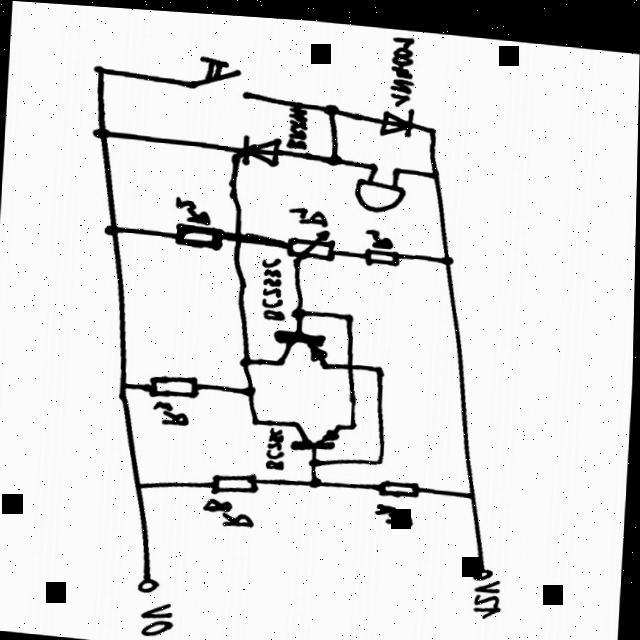crossover: (231, 226, 246, 242), (344, 355, 357, 367)
diode: (378, 100, 414, 133)
junction: (101, 221, 121, 235), (90, 125, 110, 138), (290, 301, 307, 316), (325, 148, 342, 162), (306, 451, 323, 465), (321, 98, 339, 111), (242, 380, 257, 394), (238, 352, 254, 365), (308, 472, 325, 484), (373, 358, 389, 370), (90, 62, 105, 74), (439, 249, 455, 260), (343, 307, 356, 318), (428, 164, 442, 174), (467, 483, 479, 494), (133, 478, 145, 489), (250, 413, 262, 423), (118, 378, 130, 388), (390, 160, 402, 169), (368, 157, 380, 166), (425, 120, 438, 128), (374, 452, 385, 461), (348, 417, 359, 426)
resistor: (284, 221, 338, 260), (147, 369, 201, 399), (172, 219, 226, 248), (212, 466, 261, 495), (375, 472, 422, 495), (363, 243, 402, 263)
switch: (189, 52, 250, 96)
terminal: (472, 559, 498, 578), (138, 574, 162, 592)
text: (386, 30, 415, 102), (258, 252, 289, 317), (202, 493, 258, 526), (472, 570, 505, 613), (141, 598, 177, 636), (173, 193, 213, 223), (152, 397, 191, 424), (285, 102, 308, 146), (266, 422, 288, 467), (375, 497, 415, 521), (287, 201, 328, 223), (364, 222, 396, 245)
thyristor: (227, 128, 281, 164)
transistor: (273, 324, 330, 367), (290, 415, 341, 450)
